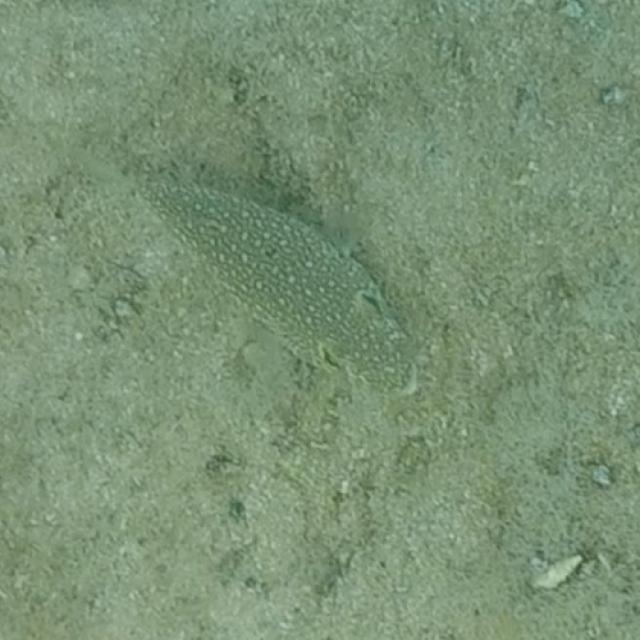Balik: (141, 173, 414, 392)
